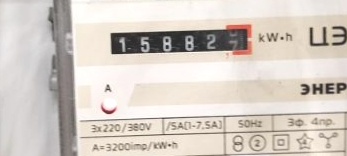1: (117, 35, 127, 53)
2: (205, 32, 216, 49)
5: (138, 35, 150, 52)
7: (227, 38, 238, 51)
8: (161, 34, 172, 51), (184, 34, 194, 50)
screen: (103, 21, 258, 59)
